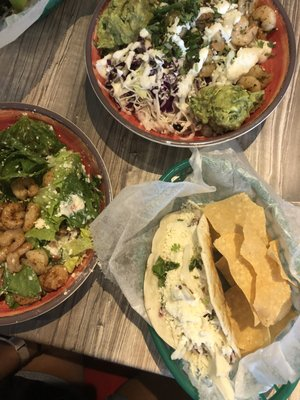curry: (188, 83, 256, 133)
sushi: (85, 0, 296, 152), (0, 104, 108, 334), (0, 0, 62, 52)
